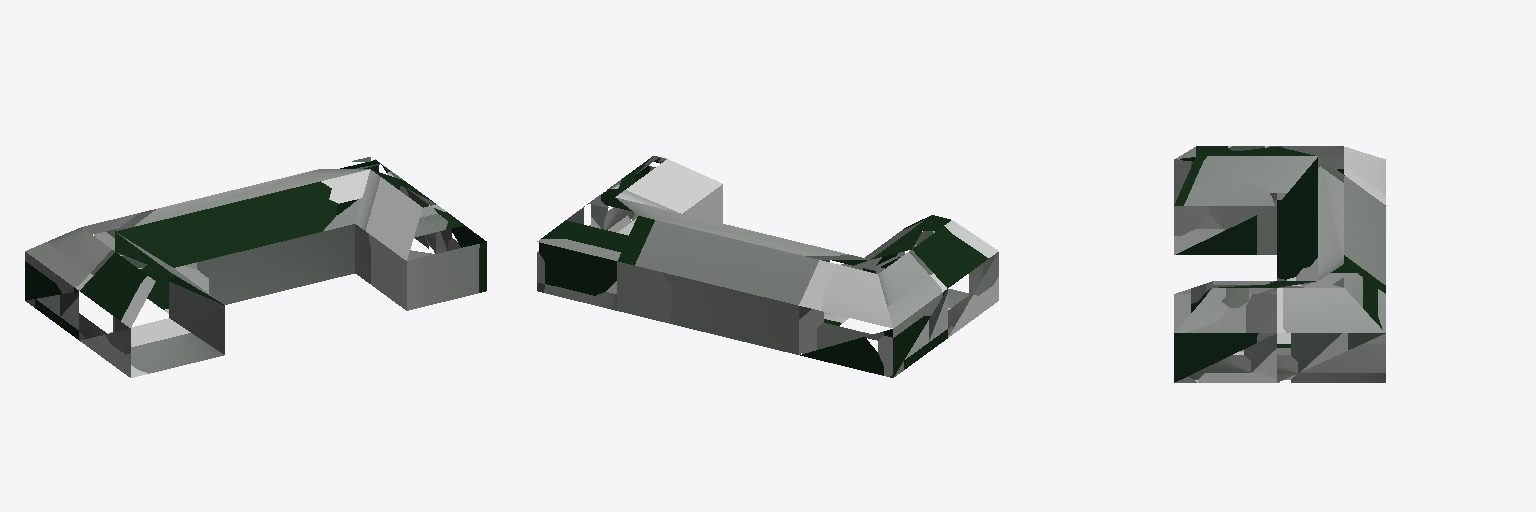
3 renders of one model, left to right at view 1: azimuth 30°, elevation 25°; view 2: azimuth 150°, elevation 25°; view 3: azimuth 270°, elevation 25°, orthographic.
Parts seen in each view (by area): view 1: Cube.011_Cube.013; view 2: Cube.011_Cube.013; view 3: Cube.011_Cube.013.
Part boxes in pixels (x1,y1,x2,y2): Cube.011_Cube.013: (25, 157, 486, 377); Cube.011_Cube.013: (537, 156, 998, 377); Cube.011_Cube.013: (1174, 146, 1385, 382).
Size of the model in its own units: 0.9656 by 0.2077 by 0.4967.
Materials: 1 (1 with a texture image).